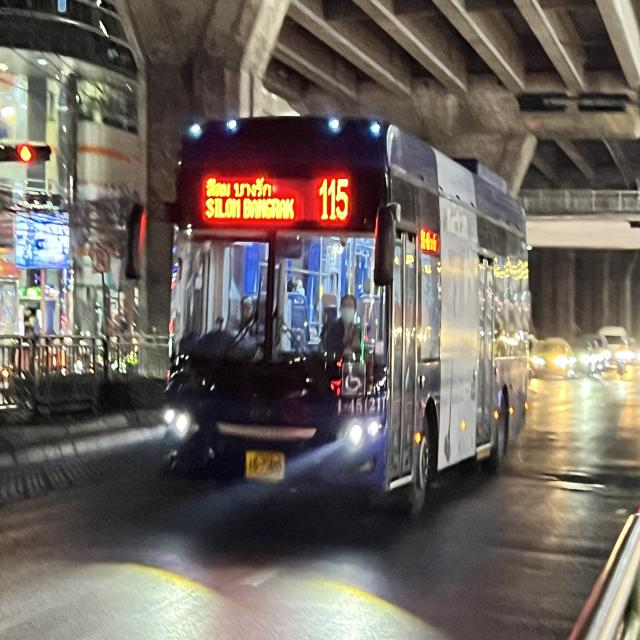Bus-Line-Number: (314, 172, 360, 226)
Destination-Sign-Normal: (202, 174, 300, 224)
TSB-Bus: (161, 115, 534, 512)
